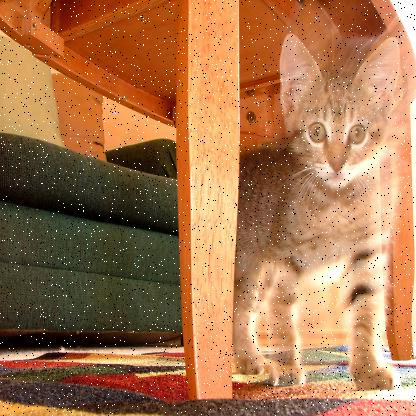cat: (244, 30, 401, 398)
